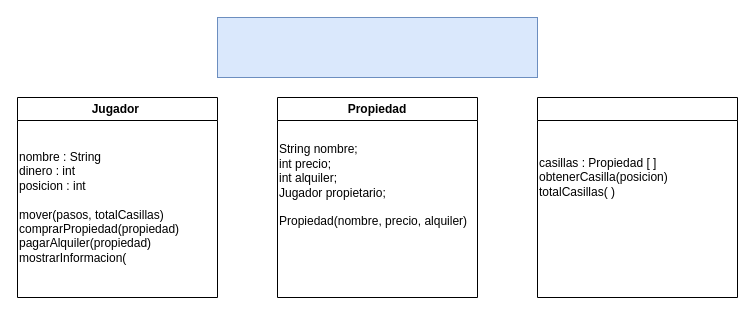
Some shapes in this 755 by 315 pixel diagram are drawn without their labels. The box of each missing label's shape, as (x1, y1, x2, y2) in pixels:
Tablero: (536, 96, 738, 298)
Taller Programacion: (216, 16, 538, 78)
